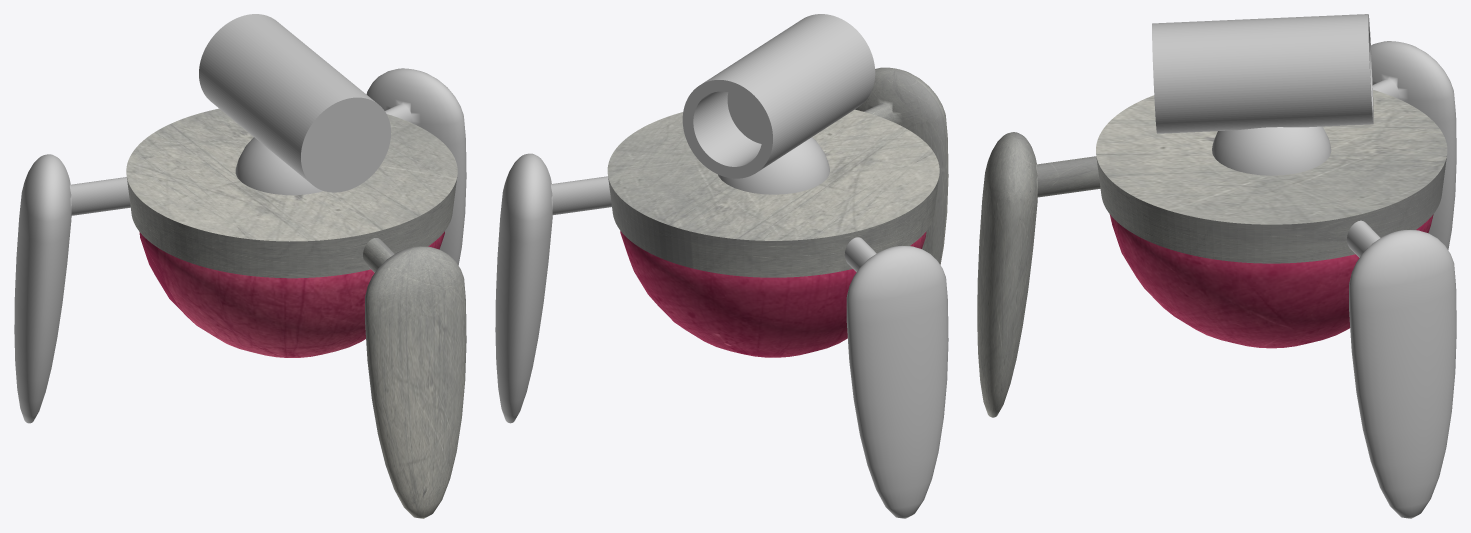
The model's file is turretFine.dae.
3 views of the same model, side by side, from view 1: azimuth 30°, elevation 25°; view 2: azimuth 150°, elevation 25°; view 3: azimuth 270°, elevation 25° (orthographic). The views are drawn at different scales.
Visible parts, largest first — view 1: Cylinder, Sphere.001, Cylinder.001, Sphere, Sphere.003, Sphere.002, Sphere.004; view 2: Cylinder, Sphere.003, Cylinder.001, Sphere, Sphere.002, Sphere.001, Sphere.004; view 3: Cylinder, Sphere.002, Cylinder.001, Sphere, Sphere.001, Sphere.003, Sphere.004.
Part boxes in pixels (bbox=[...]): Cylinder: bbox=[126, 108, 457, 278]; Sphere.001: bbox=[363, 238, 466, 518]; Cylinder.001: bbox=[199, 14, 390, 192]; Sphere: bbox=[139, 231, 444, 357]; Sphere.003: bbox=[14, 154, 130, 423]; Sphere.002: bbox=[366, 68, 466, 265]; Sphere.004: bbox=[235, 137, 322, 195]; Cylinder: bbox=[607, 109, 939, 277]; Sphere.003: bbox=[844, 237, 948, 518]; Cylinder.001: bbox=[682, 14, 875, 178]; Sphere: bbox=[620, 231, 926, 357]; Sphere.002: bbox=[495, 153, 611, 423]; Sphere.001: bbox=[855, 67, 948, 264]; Sphere.004: bbox=[718, 137, 829, 194]; Cylinder: bbox=[1096, 90, 1447, 263]; Sphere.002: bbox=[1347, 220, 1456, 518]; Cylinder.001: bbox=[1152, 14, 1373, 133]; Sphere: bbox=[1109, 214, 1433, 348]; Sphere.001: bbox=[977, 132, 1100, 417]; Sphere.003: bbox=[1371, 41, 1456, 249]; Sphere.004: bbox=[1212, 126, 1331, 175].
Size of the model in its own units: 2.53 by 2.26 by 2.07.
